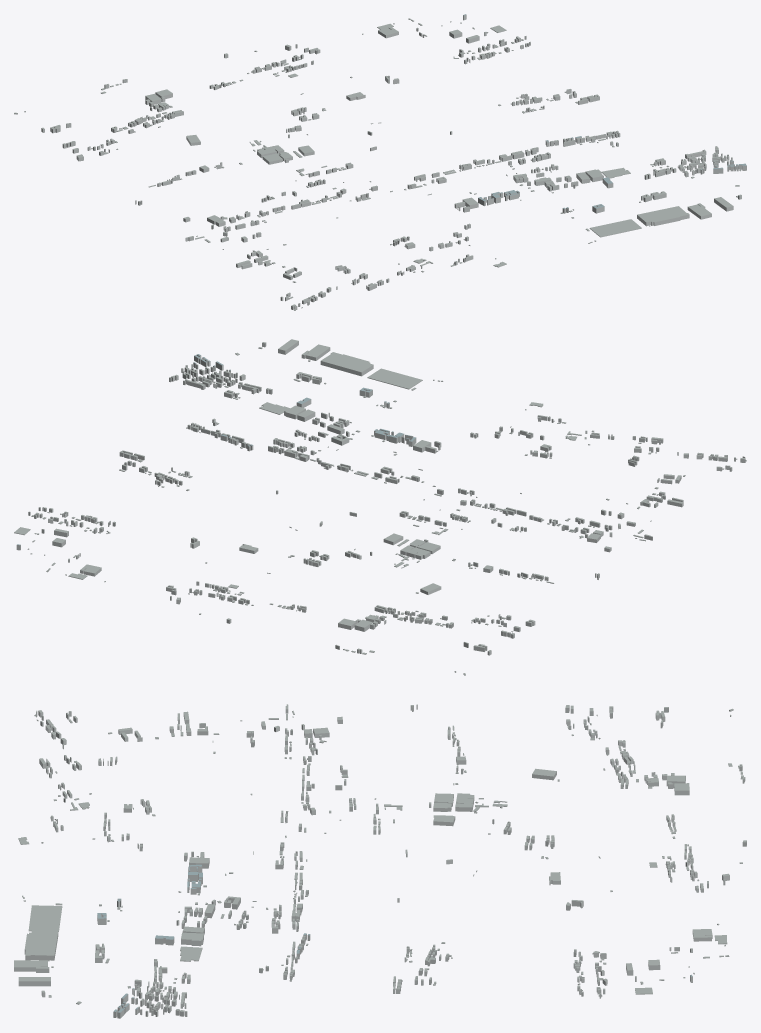
File: far.glb
3 views of the same model, one above another, from view 1: azimuth 30°, elevation 25°; view 2: azimuth 150°, elevation 25°; view 3: azimuth 270°, elevation 25° (orthographic). The views are drawn at different scales.
Size of the model in its own units: 2106 by 22.1 by 2106.
